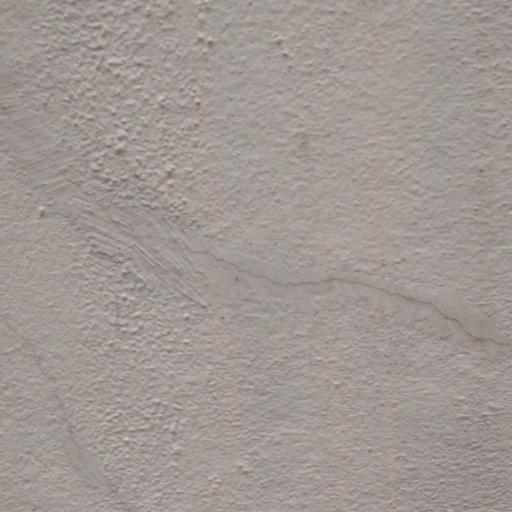minor_crack: (0, 87, 512, 351), (0, 300, 102, 512)
